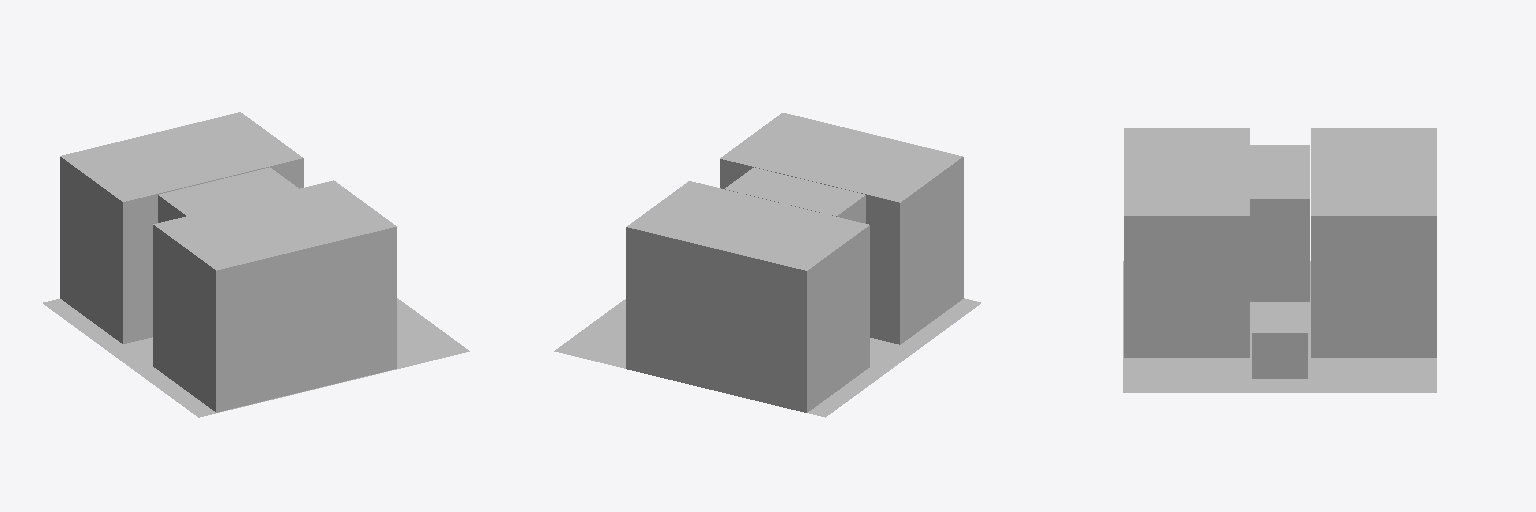
The model's file is tunnelsimpleplan.obj.
3 views of the same model, side by side, from view 1: azimuth 30°, elevation 25°; view 2: azimuth 150°, elevation 25°; view 3: azimuth 270°, elevation 25° (orthographic).
Visible parts, largest first — view 1: Cube.001, Plane; view 2: Cube.001, Plane; view 3: Cube.001, Plane.
Part boxes in pixels (left/top/right/bottom): Cube.001: left=60, top=112, right=396, bottom=412; Plane: left=43, top=298, right=469, bottom=417; Cube.001: left=626, top=113, right=963, bottom=412; Plane: left=554, top=298, right=980, bottom=417; Cube.001: left=1124, top=128, right=1436, bottom=378; Plane: left=1123, top=261, right=1436, bottom=392.
Size of the model in its own units: 10 by 5 by 10.01.